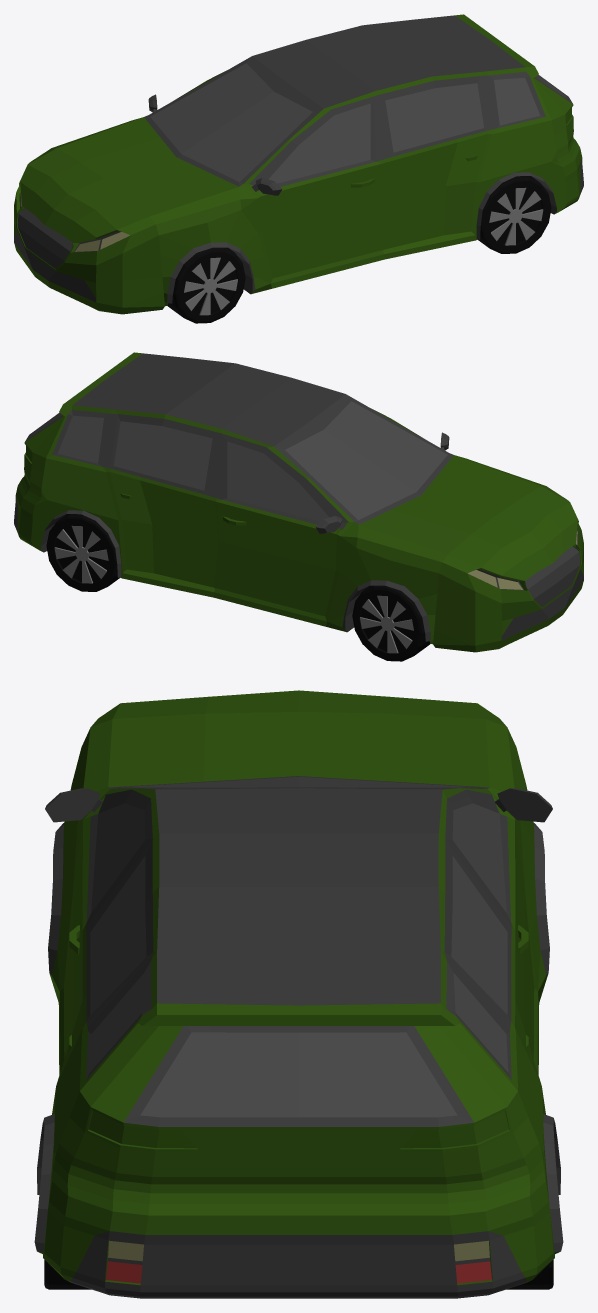
Rendered from Peugeot208_4_kolesa_zvlkast.fbx.
The picture shows the model from 3 angles, top to bottom: view 1: azimuth 30°, elevation 25°; view 2: azimuth 150°, elevation 25°; view 3: azimuth 270°, elevation 25°; orthographic projection. The views are drawn at different scales.
Parts seen in each view (by area): view 1: Cube, Cylinder.001, Cylinder.005; view 2: Cube, Cylinder.003, Cylinder.006; view 3: Cube.
Part boxes in pixels (x1=…): Cube: x1=14, y1=14, x2=583, y2=314; Cylinder.001: x1=168, y1=247, x2=245, y2=323; Cylinder.005: x1=477, y1=176, x2=551, y2=253; Cube: x1=14, y1=352, x2=583, y2=652; Cylinder.003: x1=352, y1=585, x2=429, y2=661; Cylinder.006: x1=46, y1=514, x2=120, y2=591; Cube: x1=34, y1=690, x2=563, y2=1298.
Bounding box in the file's own units: 462 × 151 × 212.
